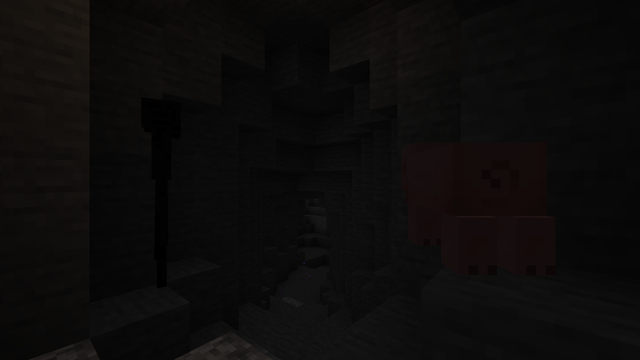cochons: (389, 135, 527, 279)
endermens: (136, 89, 189, 294)
